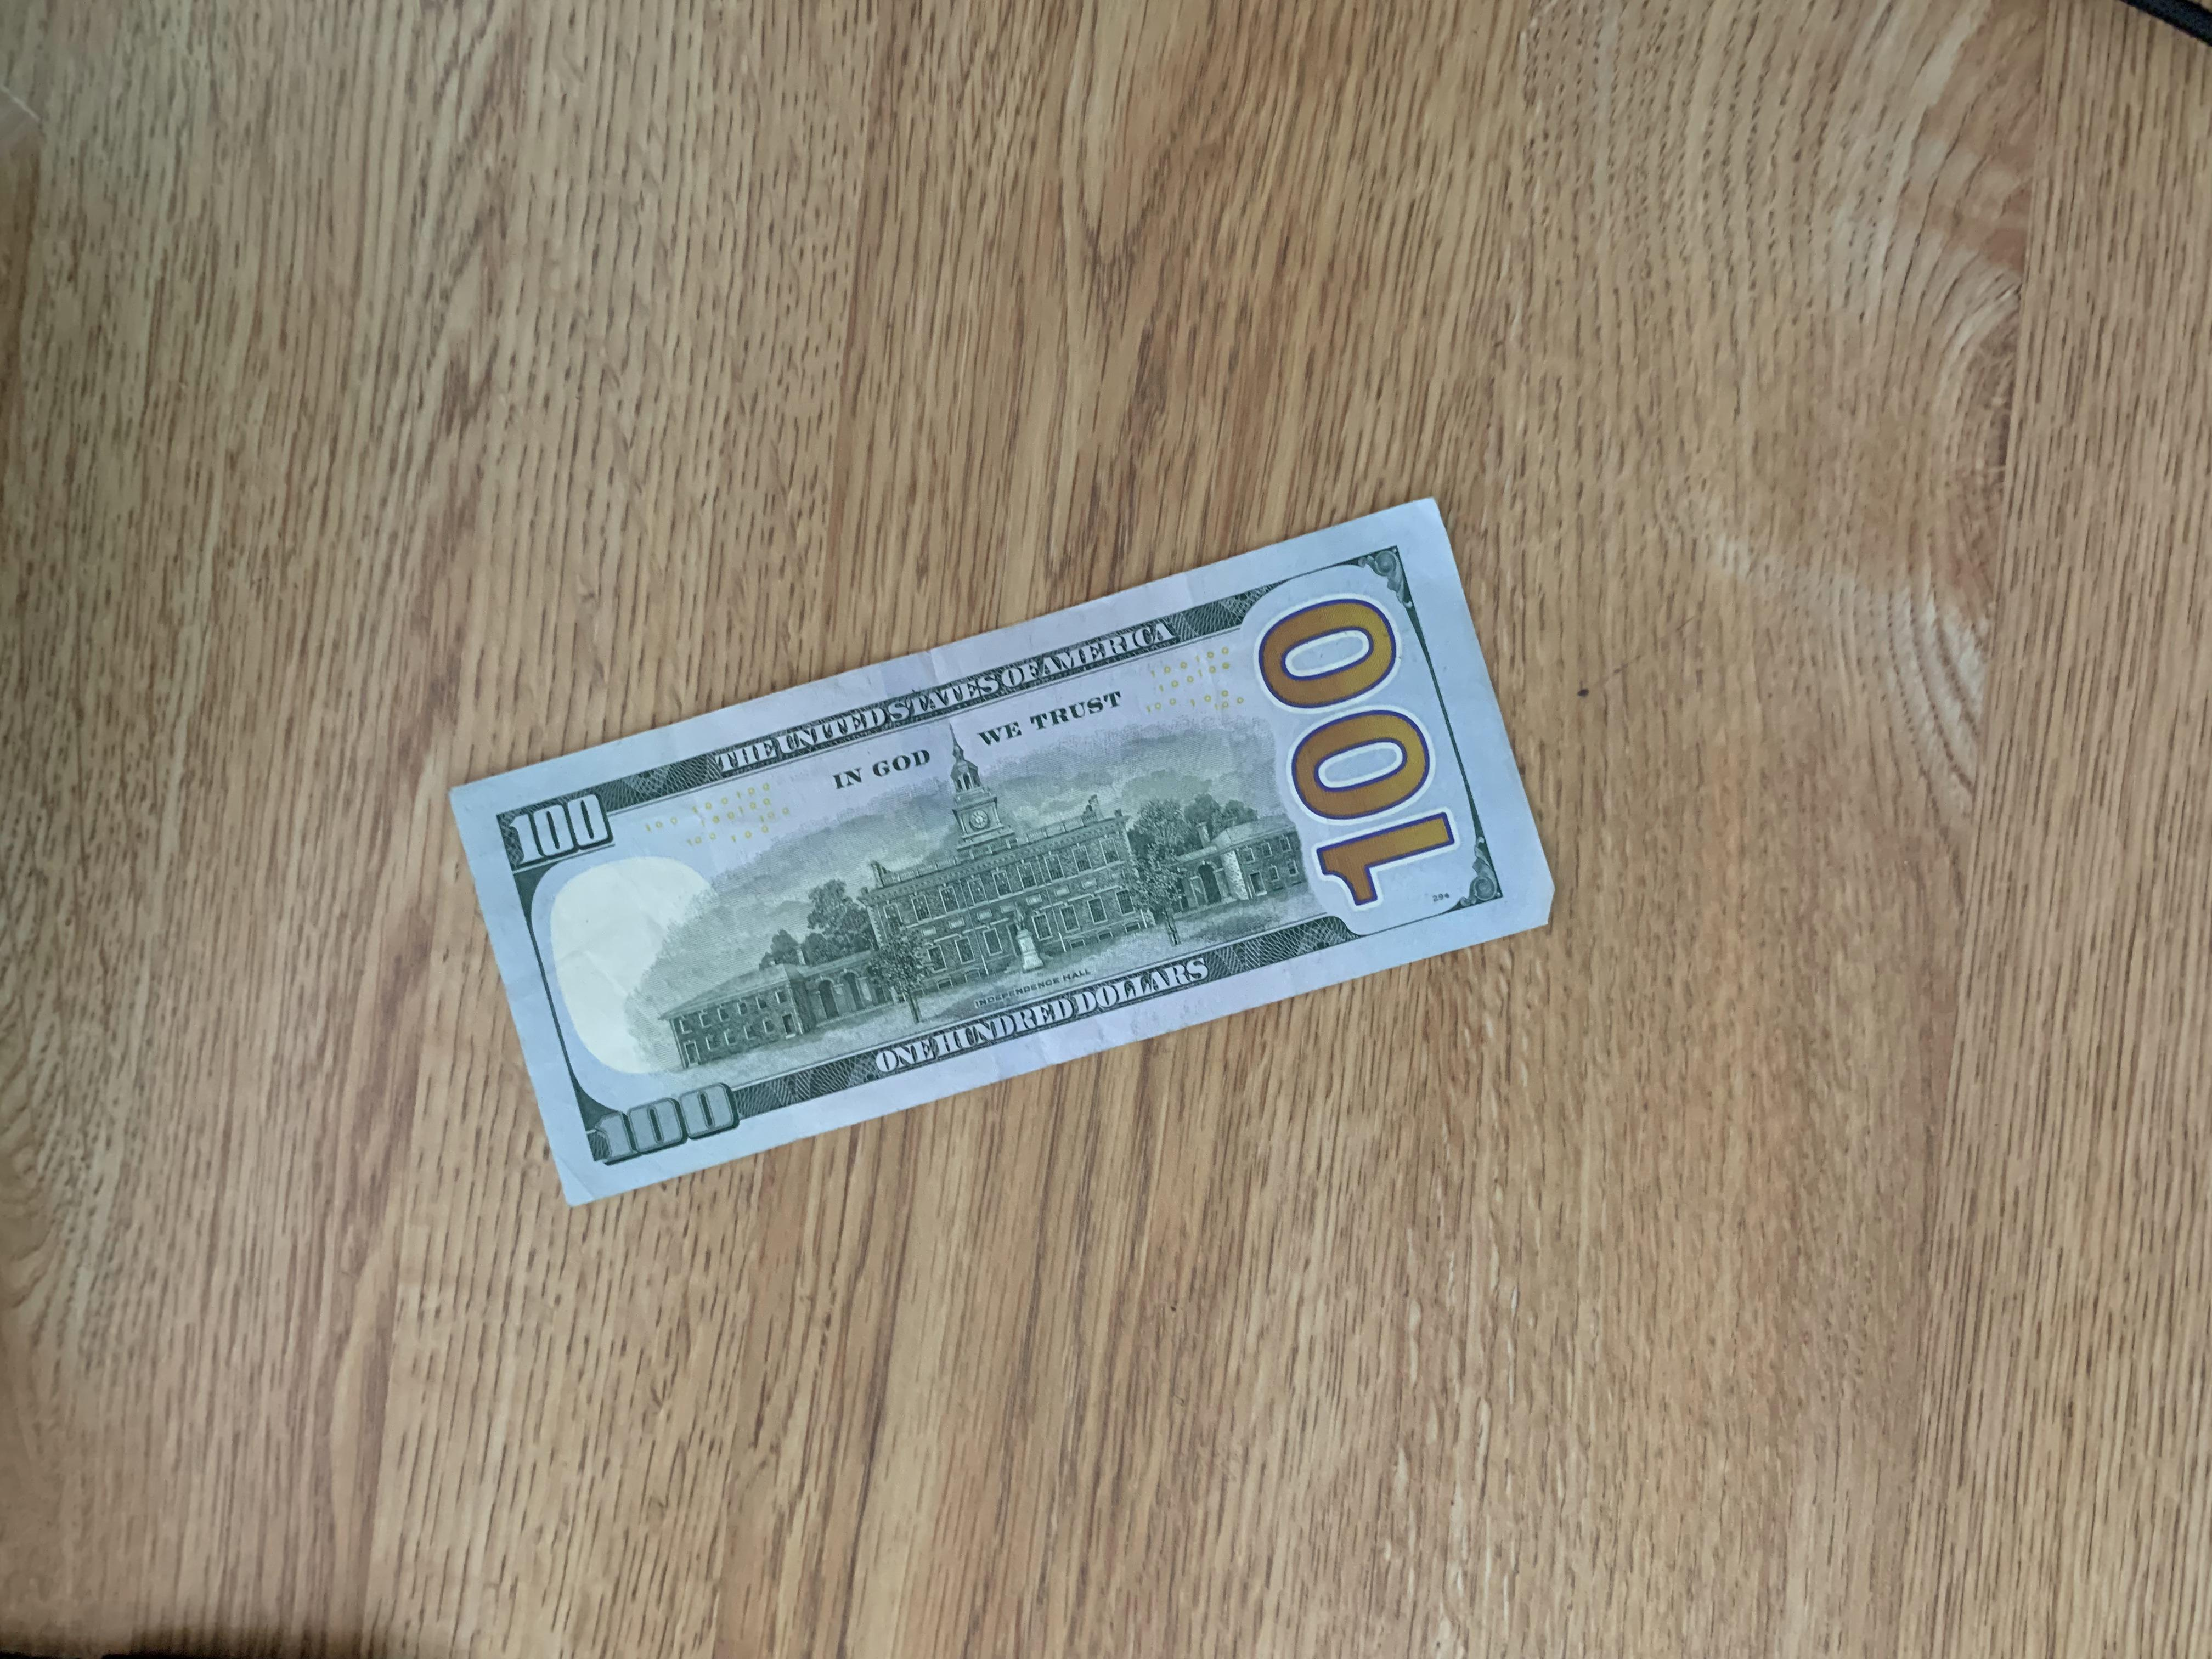HundredBill: (446, 488, 1566, 1206)
